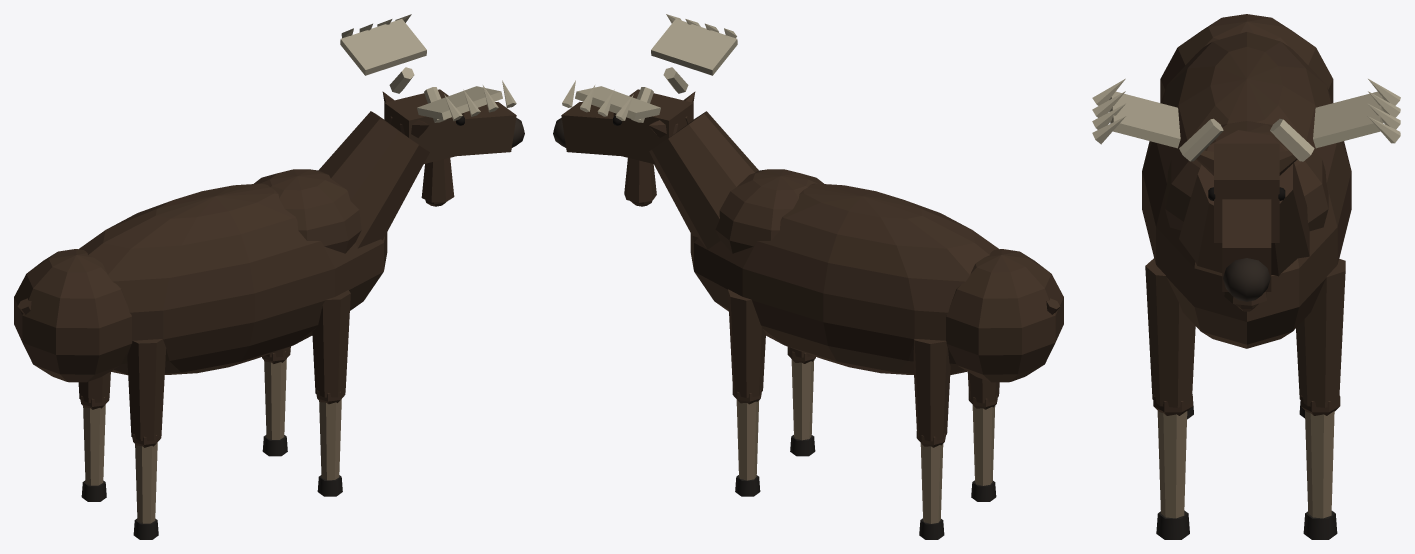
Rendered from moose.glb.
3 renders of one model, left to right at view 1: azimuth 30°, elevation 25°; view 2: azimuth 150°, elevation 25°; view 3: azimuth 270°, elevation 25°, orthographic. The views are drawn at different scales.
Visible parts, largest first — view 1: moose, head, leg_br, leg_fr, antler_l, leg_bl, leg_fl, antler_r; view 2: moose, head, leg_bl, leg_fl, antler_r, leg_br, leg_fr, antler_l; view 3: moose, head, leg_fr, leg_fl, antler_r, antler_l.
Boxes of the visible parts, x1,y1,x2,y2 form: moose: (14,111,429,382); head: (384,89,524,206); leg_br: (127,339,166,539); leg_fr: (312,290,350,496); antler_l: (340,14,426,93); leg_bl: (78,371,110,501); leg_fl: (262,346,290,456); antler_r: (417,80,516,122); moose: (649,111,1063,382); head: (553,89,693,206); leg_bl: (913,339,950,539); leg_fl: (727,289,765,496); antler_r: (651,14,737,93); leg_br: (967,372,999,501); leg_fr: (787,347,815,456); antler_l: (562,80,660,122); moose: (1142,14,1351,348); head: (1208,143,1285,311); leg_fr: (1145,258,1195,539); leg_fl: (1296,258,1345,539); antler_r: (1092,78,1223,161); antler_l: (1270,79,1400,161).
Bounding box in the file's own units: 3.81 × 2.8 × 1.51.
